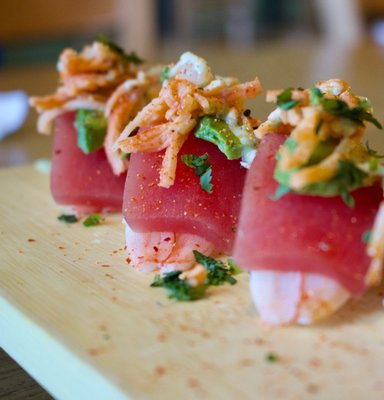soup: (232, 76, 383, 326)
